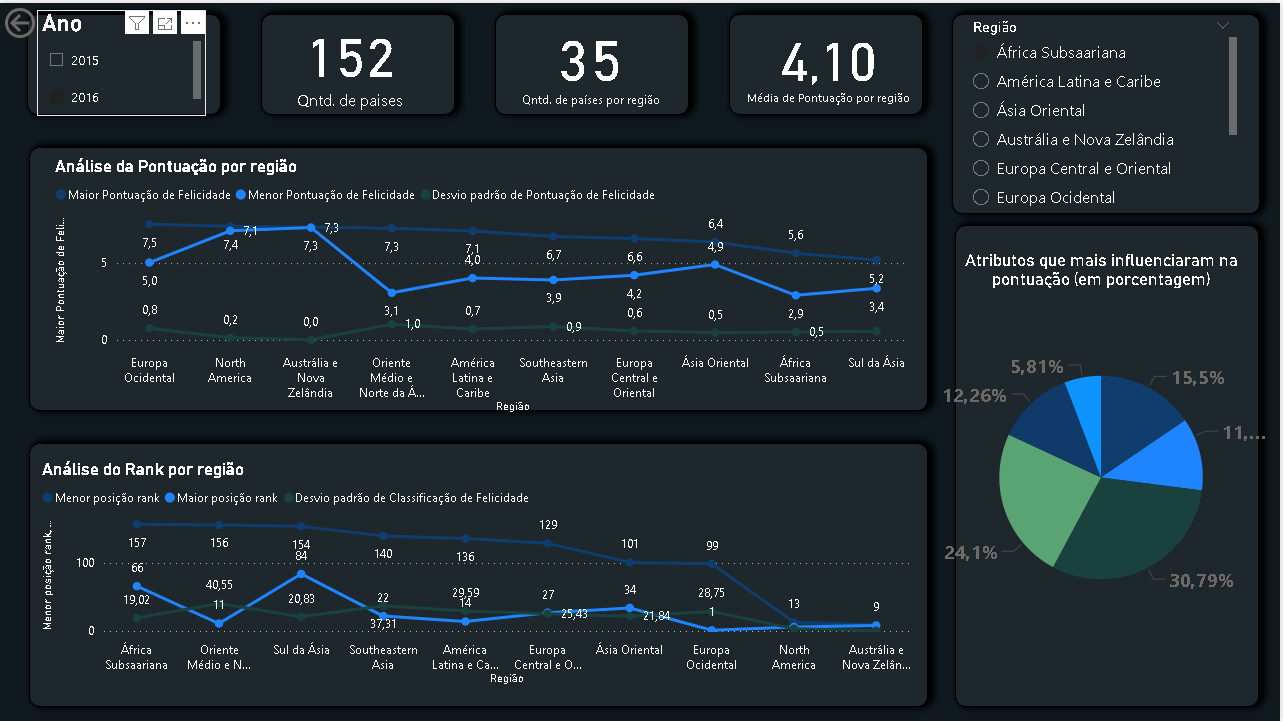

The dashboard page shown, as its layout file describes it:
{"tool":"powerbi","page":{"name":"Página 1","canvas":[1280,720],"ordinal":0},"visuals":[{"type":"card","fields":{"Values":["Tabela.Qntd. de paises"]},"box":[216.9,0,266.2,116.9],"z":0},{"type":"actionButton","box":[0,0,100,40],"z":1000},{"type":"lineChart","title":"Análise do Rank por região","fields":{"Category":["Country (Felicidade 2015).Region"],"Y":["Max(Country (Felicidade 2015).Happiness Rank)","Min(Country (Felicidade 2015).Happiness Rank)","Sum(Country (Felicidade 2015).Classificação de Felicidade)"]},"box":[36.7,455.6,883.3,230],"z":2000},{"type":"slicer","title":"Ano","fields":{"Values":["Country (Felicidade 2015).Year"]},"box":[36.7,6.7,168.9,106.7],"z":3000},{"type":"card","title":"Quantidade de países por Região","fields":{"Values":["CountNonNull(Country (Felicidade 2015).Happiness Rank)"]},"box":[483.1,6.9,214.6,102.3],"z":4000},{"type":"pieChart","title":"Atributos que mais influenciaram na pontuação (em porcentagem)","fields":{"Y":["Sum(Country (Felicidade 2015).Freedom)","Sum(Country (Felicidade 2015).Generosity)","Sum(Country (Felicidade 2015).Family)","Sum(Country (Felicidade 2015).Economy (GDP per Capita))","Sum(Country (Felicidade 2015).Health (Life Expectancy))","Sum(Country (Felicidade 2015).Trust (Government Corruption))"]},"box":[928.6,247.1,344.3,417.1],"z":5000},{"type":"slicer","fields":{"Values":["Country (Felicidade 2015).Region"]},"box":[960,10.8,282.3,196.9],"z":6000},{"type":"lineChart","title":"Análise da Pontuação por região","fields":{"Category":["Country (Felicidade 2015).Região"],"Y":["Max(Country (Felicidade 2015).Pontuação de Felicidade)","Min(Country (Felicidade 2015).Pontuação de Felicidade)","Sum(Country (Felicidade 2015).Pontuação de Felicidade)"]},"box":[50,153.3,870,261.1],"z":7000},{"type":"card","fields":{"Values":["Avg(Country (Felicidade 2015).Pontuação de Felicidade)"]},"box":[728.5,3.8,200.8,107.7],"z":8001}]}

Visuals, with their boxes on the page's 1280x720 design canvas (x1, y1, x2, y2). These are canvas units, not pixel positions in the 1283x722 screenshot, which may show the page scaled, cropped or inside an application window:
card - Tabela.Qntd. de paises: [217, 0, 483, 117]
actionButton: [0, 0, 100, 40]
"Análise do Rank por região" lineChart: [37, 456, 920, 686]
"Ano" slicer: [37, 7, 206, 113]
"Quantidade de países por Região" card: [483, 7, 698, 109]
"Atributos que mais influenciaram na pontuação (em porcentagem)" pieChart: [929, 247, 1273, 664]
slicer - Country (Felicidade 2015).Region: [960, 11, 1242, 208]
"Análise da Pontuação por região" lineChart: [50, 153, 920, 414]
card - Avg(Country (Felicidade 2015).Pontuação de Felicidade): [728, 4, 929, 112]
